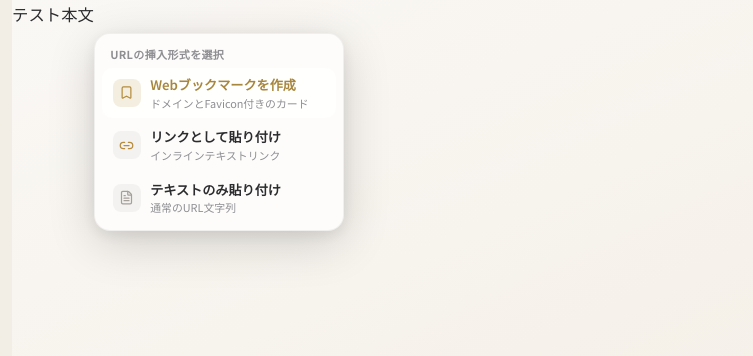
Scenario: NoteEnhancements: URLペースト選択 & バックスラッシュ過剰エスケープ防止 & 目次右端配置 › NoteEditor: URLペースト選択メニュー（UrlPasteMenu）が表示されたとき、3つの選択肢が正しく選べる
Check: the field with class "arca-tiptap-prose" is shown, box [12,5,94,25]
Check: the element with test id "url-paste-menu" is shown, box [94,33,344,231]
Note: 「Webブックマークを作成」をクリック
Step 1. Click the button with test id "url-paste-opt-bookmark" → point(219, 93), box [102,68,336,118]
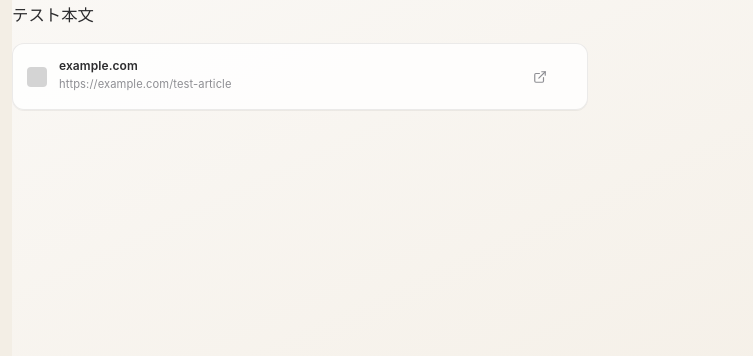
Check: the element with test id "url-paste-menu" is gone
